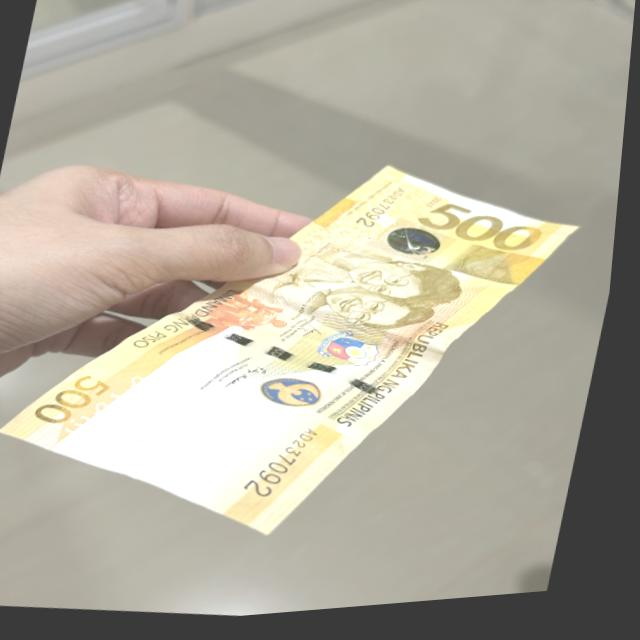concealed_value: (462, 249, 537, 296)
optically_variable_device: (389, 226, 453, 271)
security_thread: (171, 296, 412, 424)
see_through_mark: (67, 364, 156, 445)
serial_number: (244, 419, 335, 516), (355, 185, 410, 240)
value: (423, 197, 554, 270)
value_watermark: (108, 430, 180, 462)
watermark: (125, 376, 281, 494)
